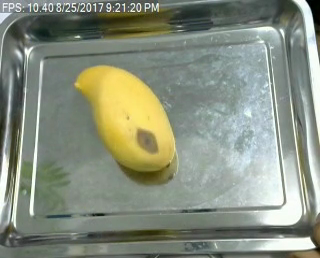Mango: (72, 61, 179, 175)
